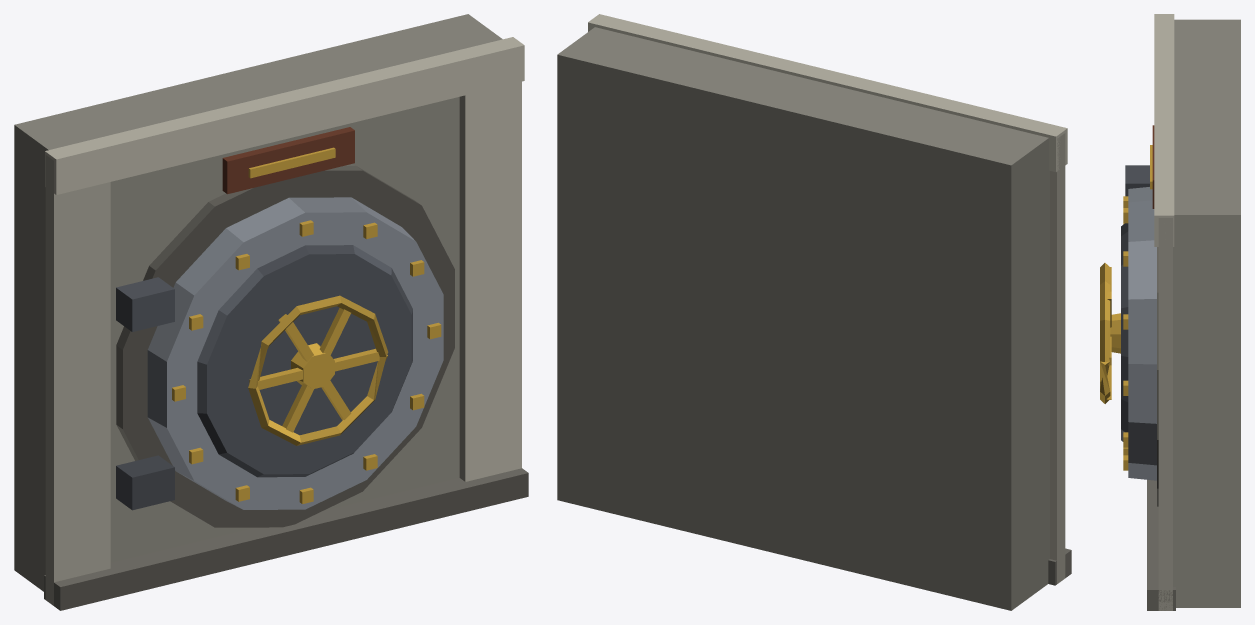
File: vault_door.glb
3 views of the same model, side by side, from view 1: azimuth 30°, elevation 25°; view 2: azimuth 150°, elevation 25°; view 3: azimuth 270°, elevation 25° (orthographic). The views are drawn at different scales.
Parts seen in each view (by area): view 1: vault_door; view 2: vault_door; view 3: vault_door.
Part boxes in pixels (x1,y1,x2,y2): vault_door: [14, 14, 528, 610]; vault_door: [557, 14, 1071, 610]; vault_door: [1100, 14, 1240, 610].
Size of the model in its own units: 3.3 by 3.02 by 0.975.
